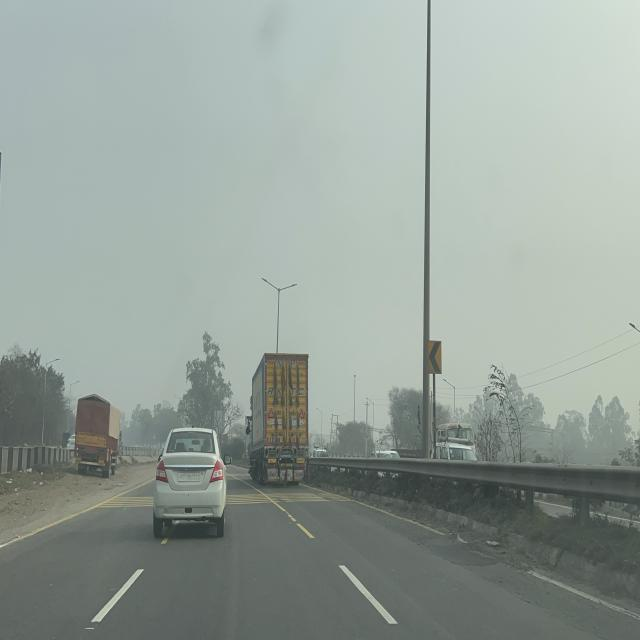TURN_LEFT: (428, 340, 441, 374)
